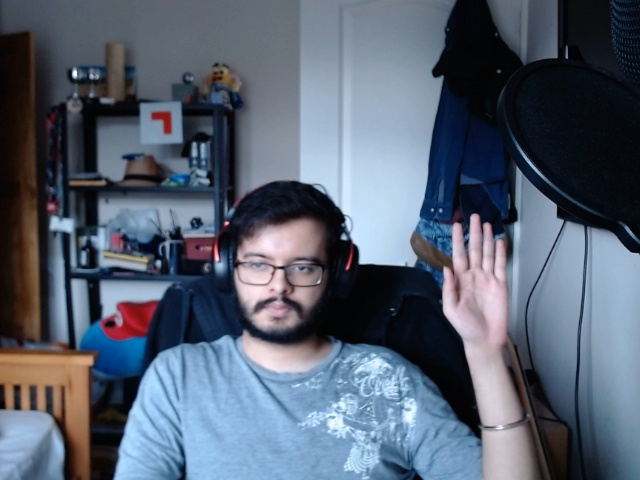Hello: (432, 202, 531, 347)
